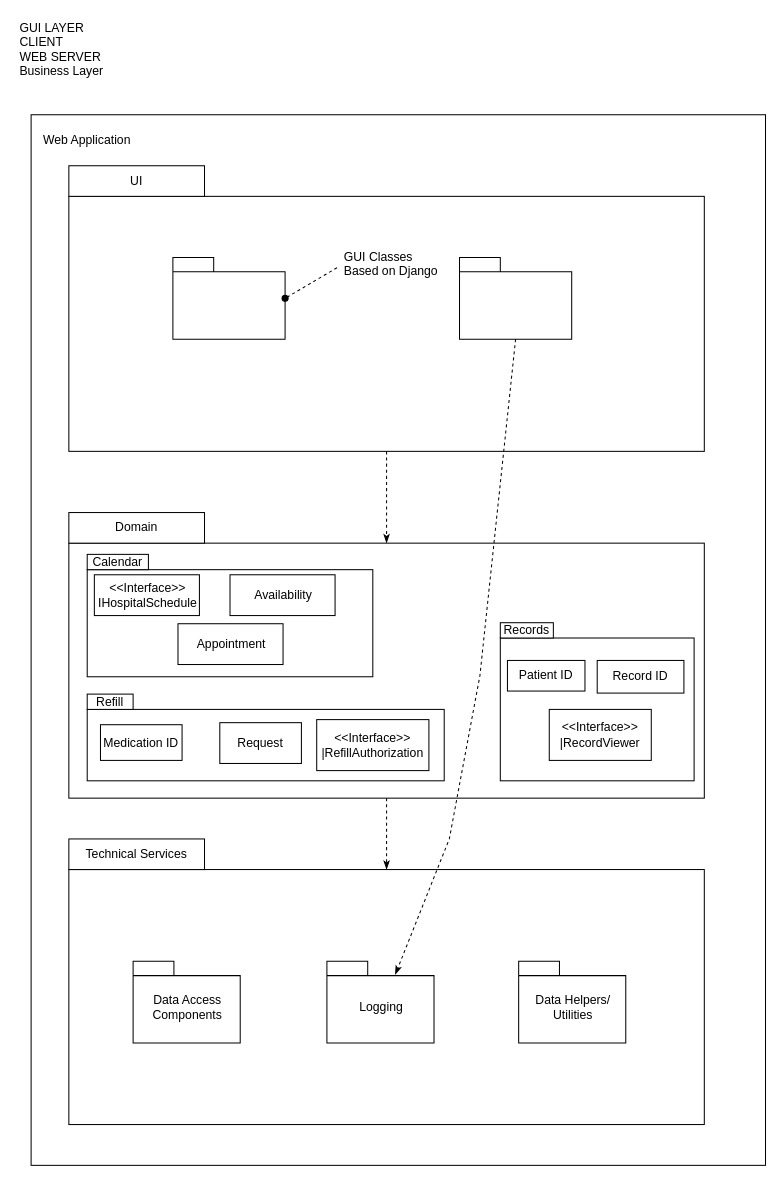
Some shapes in this 783 by 1183 pixel diagram are drawn without their labels. Here are the shapes that lost their labels. From the top down, the centre of each, then its label:
At (x=228, y=298): "Django".
At (x=515, y=298): "Web".
